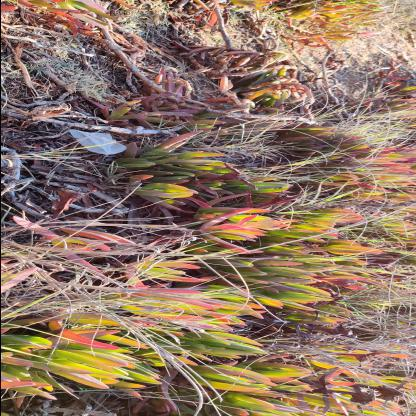plastik: (68, 130, 128, 156)
